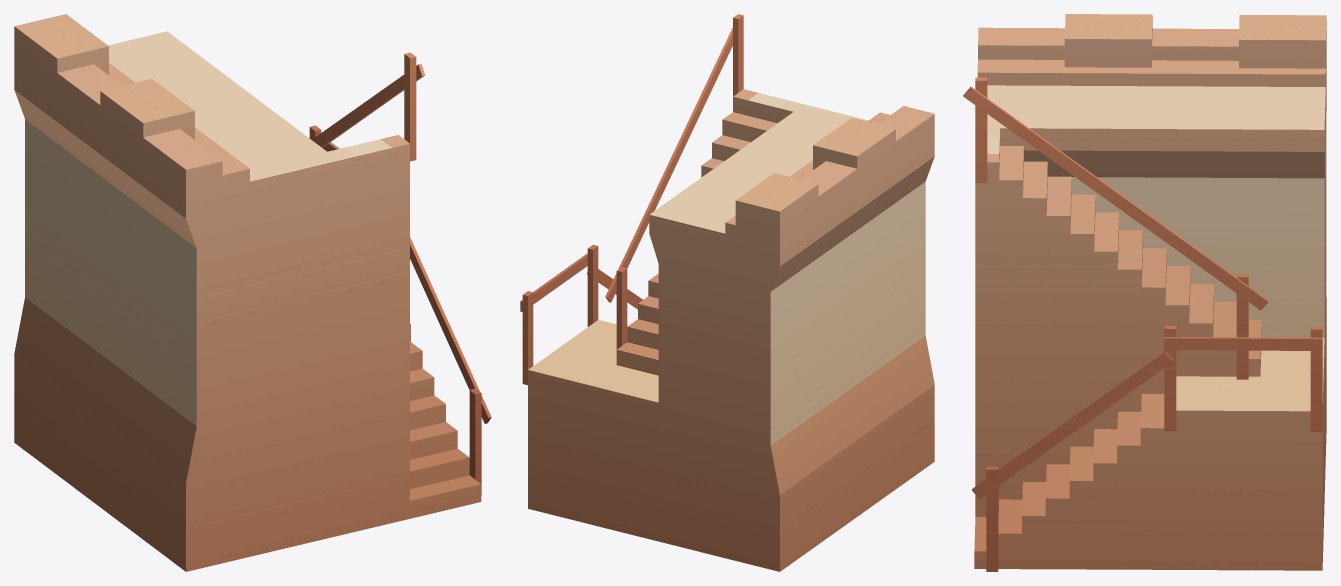
File: wall-narrow-stairs-rail_lev3.glb
3 views of the same model, side by side, from view 1: azimuth 30°, elevation 25°; view 2: azimuth 150°, elevation 25°; view 3: azimuth 270°, elevation 25° (orthographic). The views are drawn at different scales.
Parts seen in each view (by area): view 1: wall-narrow-stairs-rail_lev3; view 2: wall-narrow-stairs-rail_lev3; view 3: wall-narrow-stairs-rail_lev3.
Boxes of the visible parts, x1,y1,x2,y2 form: wall-narrow-stairs-rail_lev3: (14, 14, 491, 571); wall-narrow-stairs-rail_lev3: (520, 14, 934, 571); wall-narrow-stairs-rail_lev3: (963, 14, 1326, 571).
Size of the model in its own units: 5.98 by 8.6 by 6.2.
Materials: 1 (1 with a texture image).
